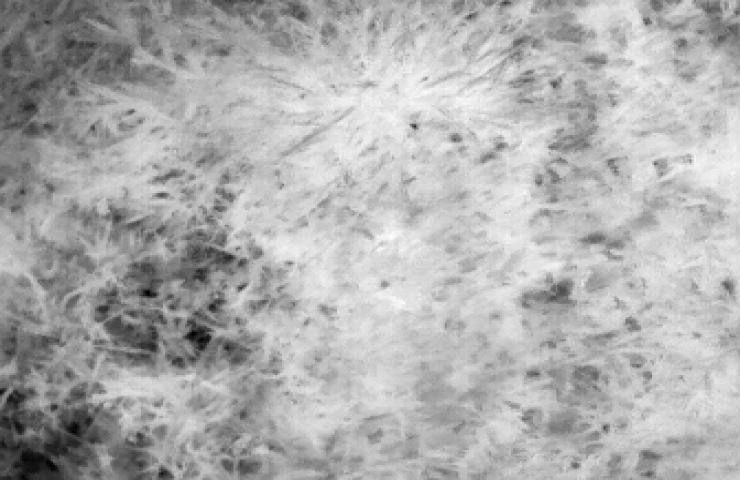landmines: (355, 226, 438, 313)
